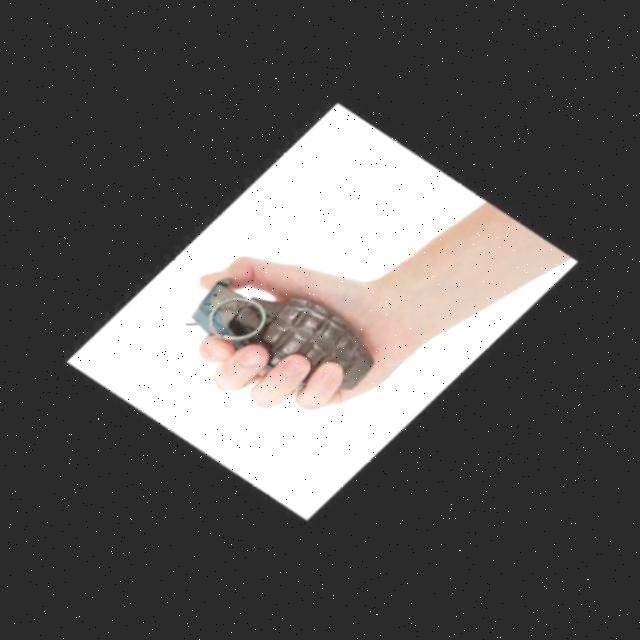grenade: (164, 242, 401, 433)
